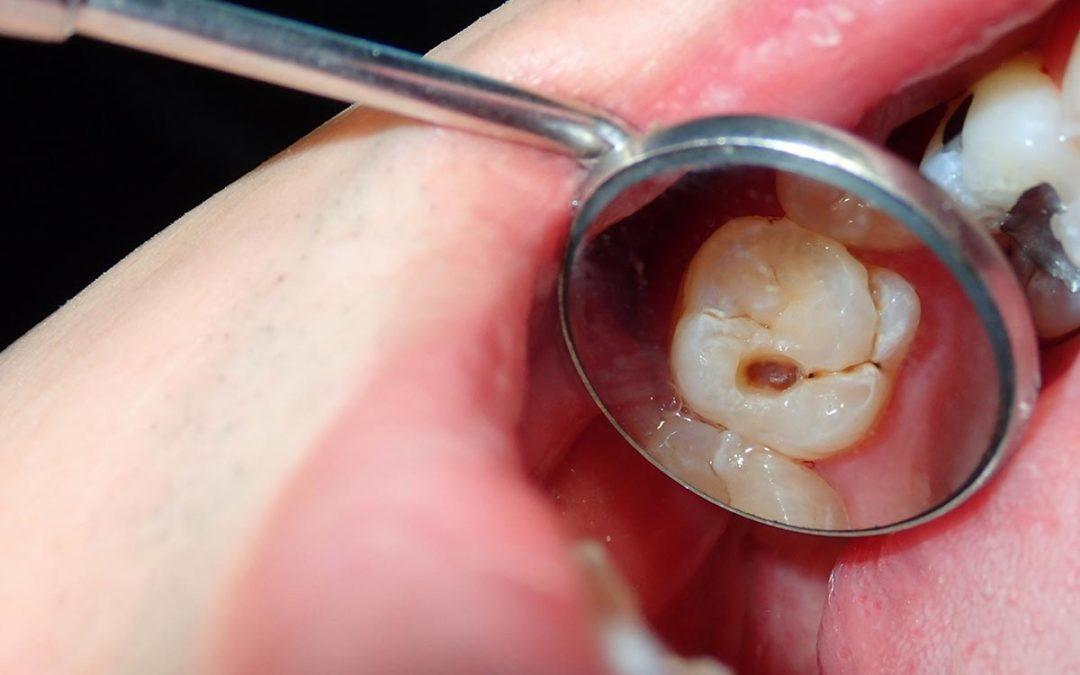cavity: (638, 204, 962, 456), (905, 34, 1080, 350), (619, 380, 860, 549)
